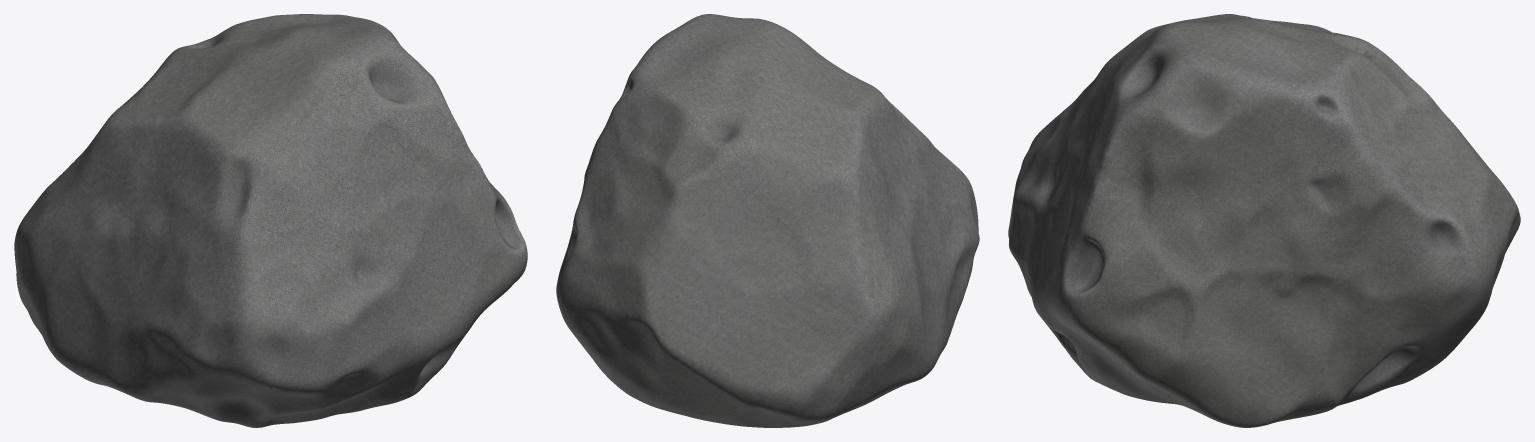
File: rock.glb
3 views of the same model, side by side, from view 1: azimuth 30°, elevation 25°; view 2: azimuth 150°, elevation 25°; view 3: azimuth 270°, elevation 25° (orthographic). The views are drawn at different scales.
Parts seen in each view (by area): view 1: mesh_node; view 2: mesh_node; view 3: mesh_node.
Part boxes in pixels (bbox=[...]): mesh_node: bbox=[14, 14, 527, 427]; mesh_node: bbox=[556, 14, 979, 427]; mesh_node: bbox=[1008, 14, 1520, 427].
Size of the model in its own units: 1.76 by 1.36 by 1.9.
Materials: 1 (1 with a texture image).
